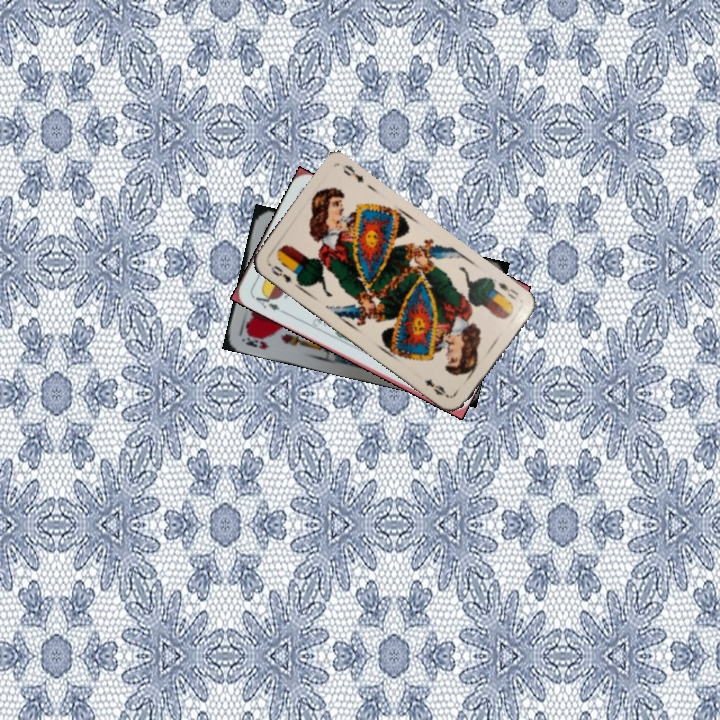EA: (249, 288, 287, 316)
EO: (265, 259, 294, 286), (494, 278, 521, 302)
HK: (239, 329, 271, 352)
